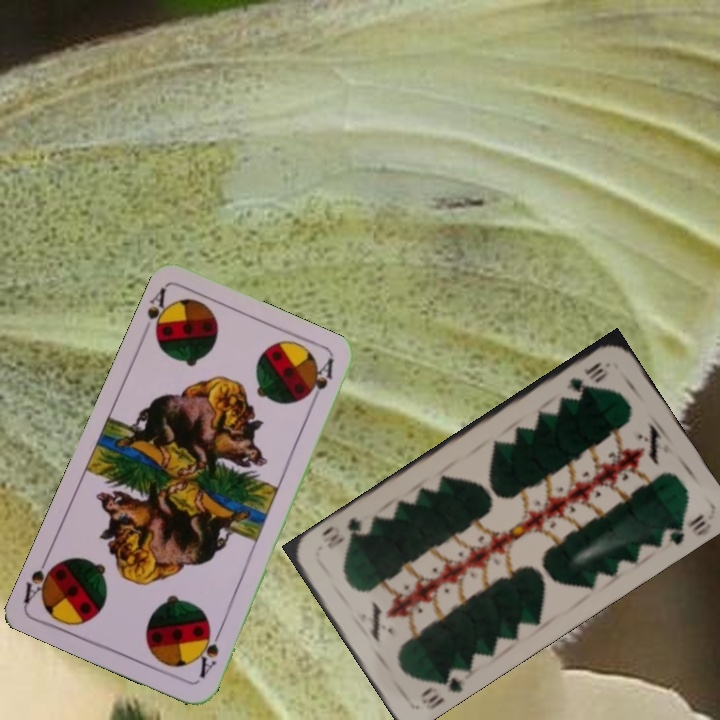G10: (416, 664, 465, 713), (562, 357, 608, 395)
SA: (142, 284, 177, 344), (192, 623, 224, 681)
